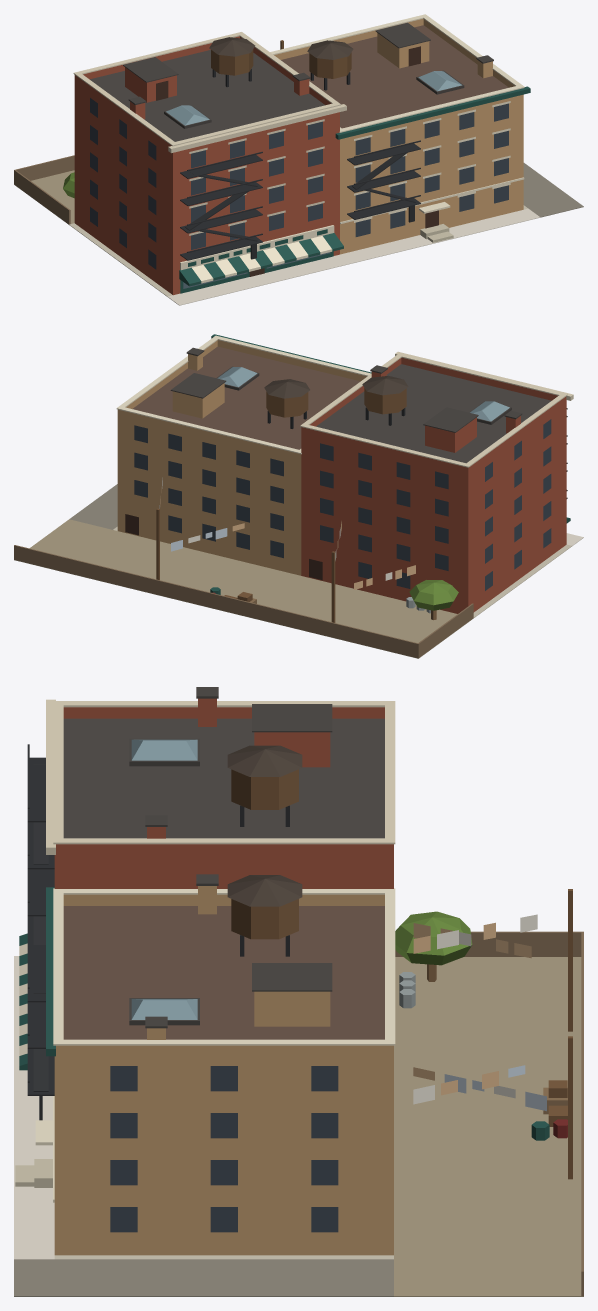
The model's file is terrace_t.glb.
The picture shows the model from 3 angles, top to bottom: view 1: azimuth 30°, elevation 25°; view 2: azimuth 150°, elevation 25°; view 3: azimuth 270°, elevation 25°; orthographic projection. The views are drawn at different scales.
Visible parts, largest first — view 1: terrace_t; view 2: terrace_t; view 3: terrace_t.
Boxes of the visible parts, box(x1,y1,x2,y2) form: terrace_t: box(14, 14, 583, 305); terrace_t: box(14, 334, 583, 658); terrace_t: box(14, 687, 583, 1296).
Size of the model in its own units: 24 by 10.31 by 17.
